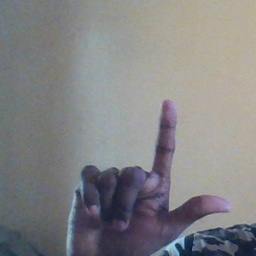L: (64, 97, 231, 256)
